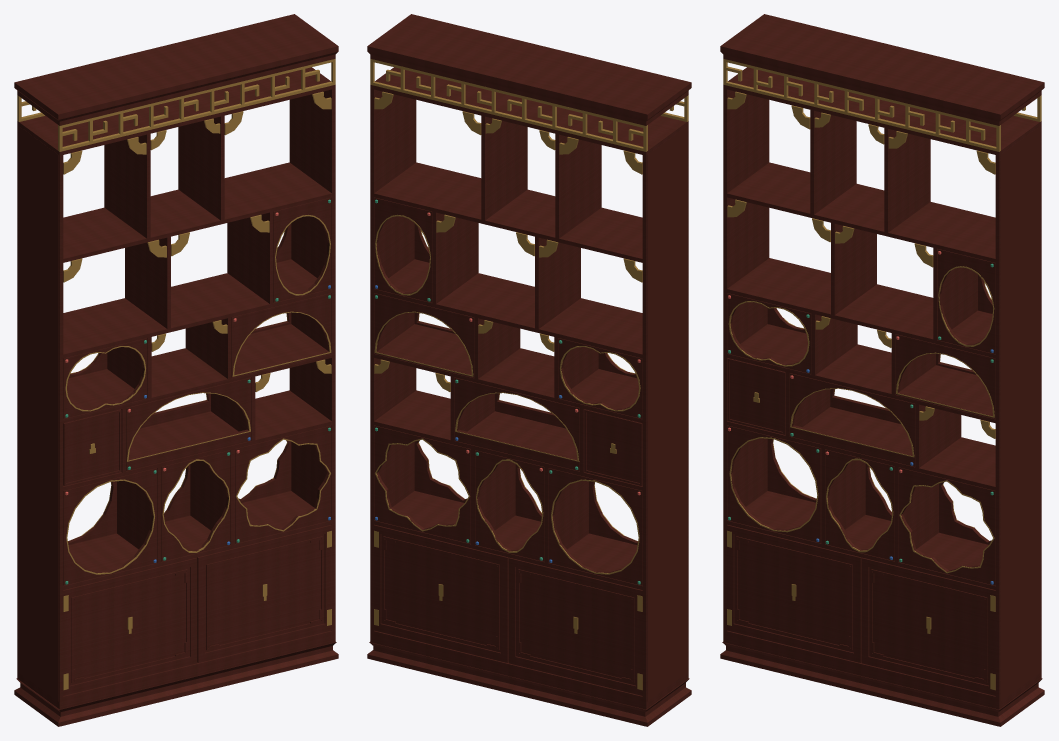
File: shijinge-v1-b.glb
3 views of the same model, side by side, from view 1: azimuth 30°, elevation 25°; view 2: azimuth 150°, elevation 25°; view 3: azimuth 330°, elevation 25° (orthographic).
Visible parts, largest first — view 1: shijinge_b_wood, shijinge_b_side, shijinge_b_gold; view 2: shijinge_b_wood, shijinge_b_side, shijinge_b_gold; view 3: shijinge_b_wood, shijinge_b_side, shijinge_b_gold.
Part boxes in pixels (x1,y1,x2,y2): shijinge_b_wood: (14,14,338,726); shijinge_b_side: (18,126,58,701); shijinge_b_gold: (17,59,335,690); shijinge_b_wood: (367,14,691,726); shijinge_b_side: (647,126,687,701); shijinge_b_gold: (370,59,688,690); shijinge_b_wood: (720,14,1044,726); shijinge_b_side: (1001,126,1040,700); shijinge_b_gold: (723,59,1041,690).
Size of the model in its own units: 1.52 by 3.18 by 0.4185.
4 materials, 1 textured.
